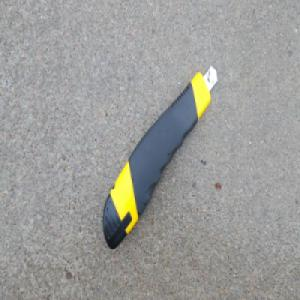Cutter: (100, 66, 217, 251)
